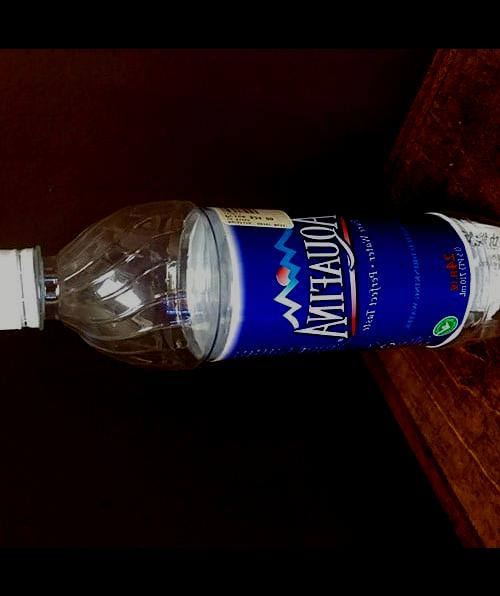bottle: (0, 200, 500, 359)
